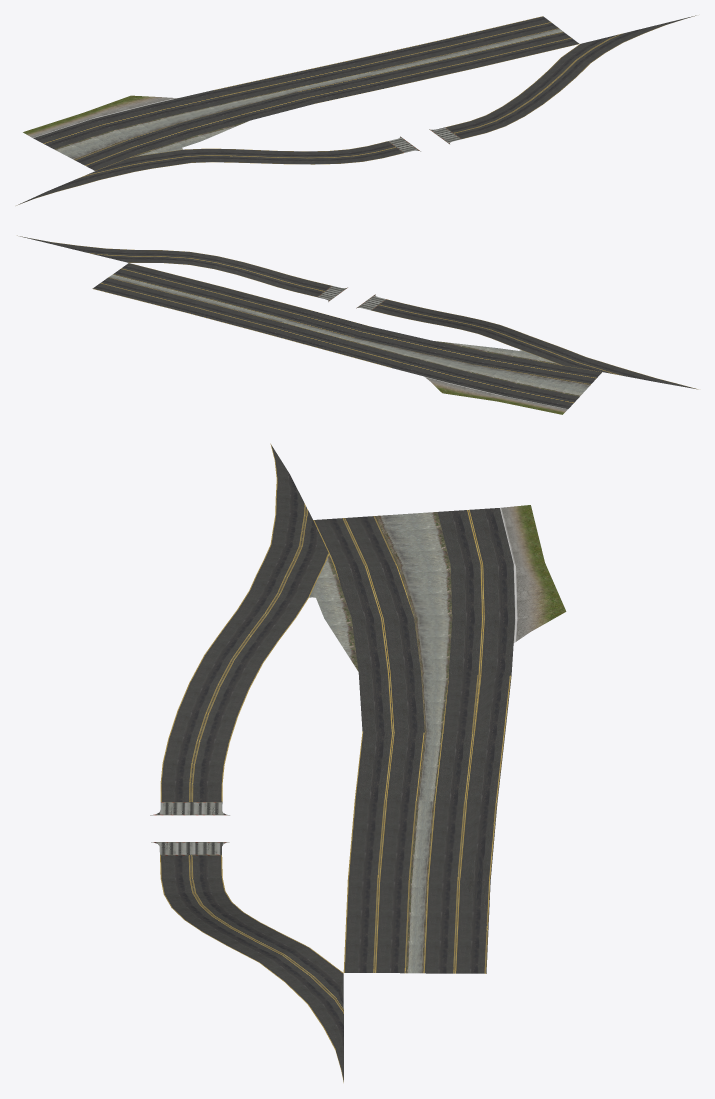
Rendered from cunte_roads46.obj.
The picture shows the model from 3 angles, top to bottom: view 1: azimuth 30°, elevation 25°; view 2: azimuth 150°, elevation 25°; view 3: azimuth 270°, elevation 25°; orthographic projection. The views are drawn at different scales.
Parts seen in each view (by area): view 1: cunte_roads46; view 2: cunte_roads46; view 3: cunte_roads46.
Boxes of the visible parts, x1=… form: cunte_roads46: x1=16, y1=15, x2=696, y2=205; cunte_roads46: x1=17, y1=235, x2=698, y2=414; cunte_roads46: x1=150, y1=443, x2=566, y2=1082.
Bounding box in the file's own units: 246 × 6.51 × 66.49.
5 materials, 5 textured.
